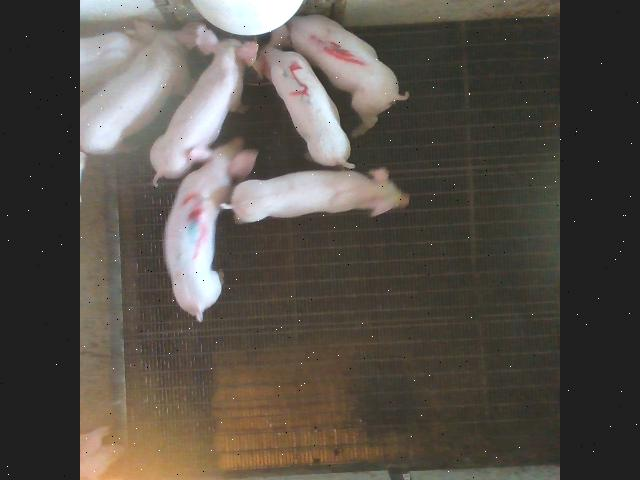pig-1: (287, 14, 409, 135)
pig-3: (164, 138, 258, 320)
pig-5: (256, 24, 354, 168)
